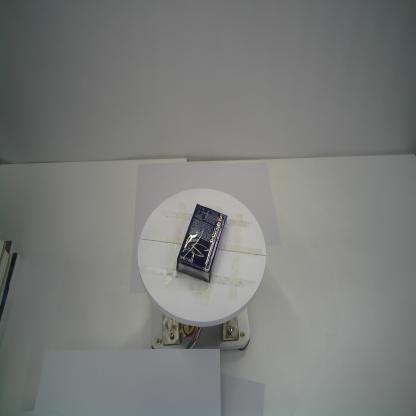Gum: (176, 204, 228, 284)
